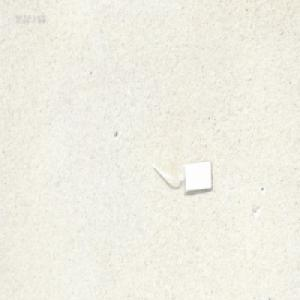LuggageTag: (151, 158, 212, 194)
